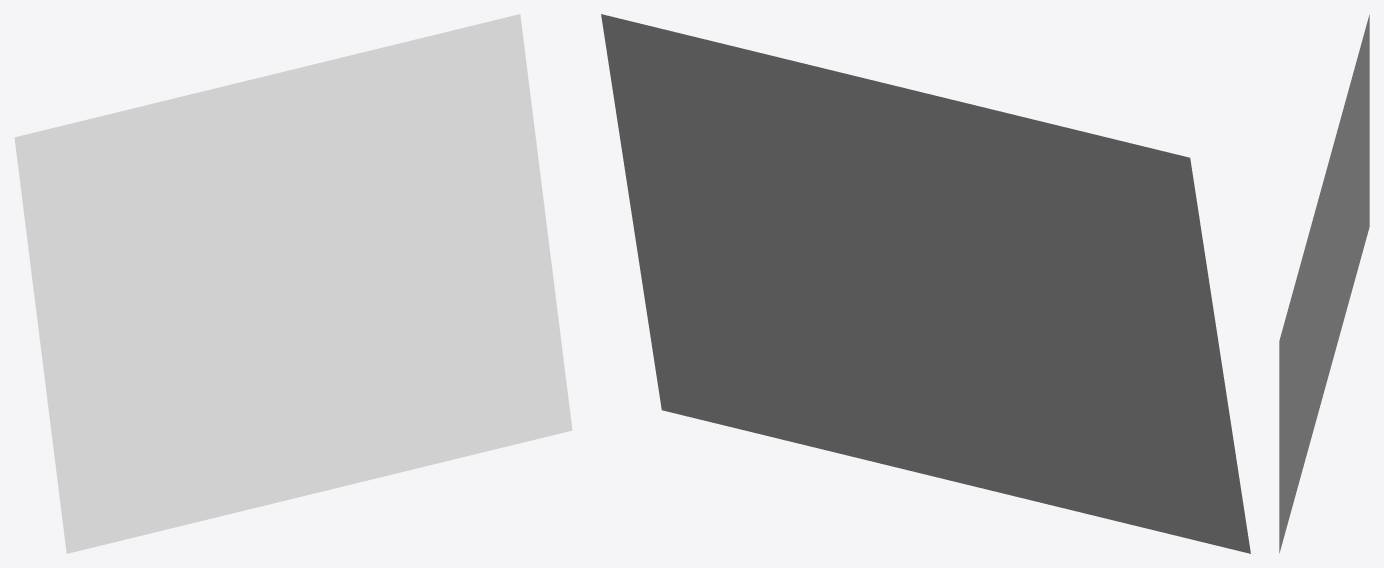
File: primary_129.glb
3 renders of one model, left to right at view 1: azimuth 30°, elevation 25°; view 2: azimuth 150°, elevation 25°; view 3: azimuth 270°, elevation 25°, orthographic. The views are drawn at different scales.
Parts seen in each view (by area): view 1: Object; view 2: Object; view 3: Object.
Boxes of the visible parts, x1,y1,x2,y2 form: Object: [14, 14, 572, 553]; Object: [601, 14, 1250, 553]; Object: [1279, 14, 1369, 553].
Size of the model in its own units: 1.7 by 1.21 by 0.3034.
Materials: 1 (1 with a texture image).
